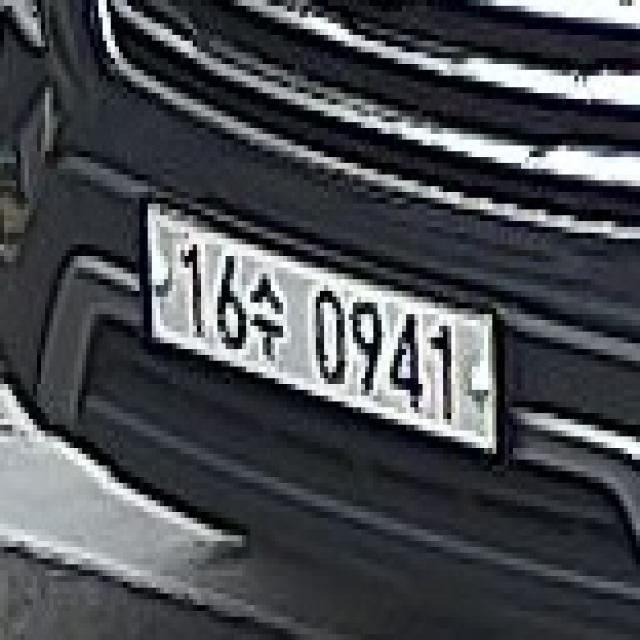0: (312, 285, 349, 396)
1: (426, 308, 464, 436), (172, 227, 210, 349)
4: (386, 302, 426, 419)
6: (213, 244, 250, 355)
9: (348, 291, 386, 407)
license_plate: (140, 192, 508, 477)
su: (250, 262, 287, 372)
